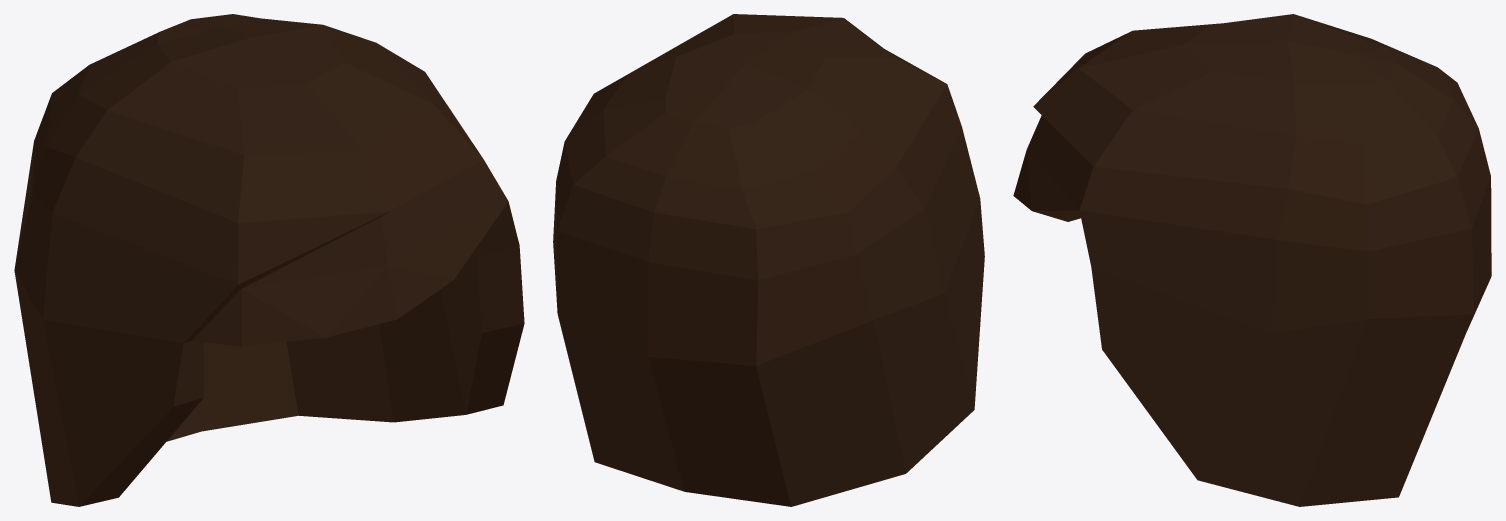
The model's file is female_hairstyle_3.glb.
The picture shows the model from 3 angles, left to right: view 1: azimuth 30°, elevation 25°; view 2: azimuth 150°, elevation 25°; view 3: azimuth 270°, elevation 25°; orthographic projection. The views are drawn at different scales.
Visible parts, largest first — view 1: Female_Hairstyle_3; view 2: Female_Hairstyle_3; view 3: Female_Hairstyle_3.
Part boxes in pixels (<box>): Female_Hairstyle_3: <box>14,14,524,506</box>; Female_Hairstyle_3: <box>553,14,984,506</box>; Female_Hairstyle_3: <box>1013,14,1491,506</box>.
Size of the model in its own units: 1.85 by 1.85 by 1.97.
